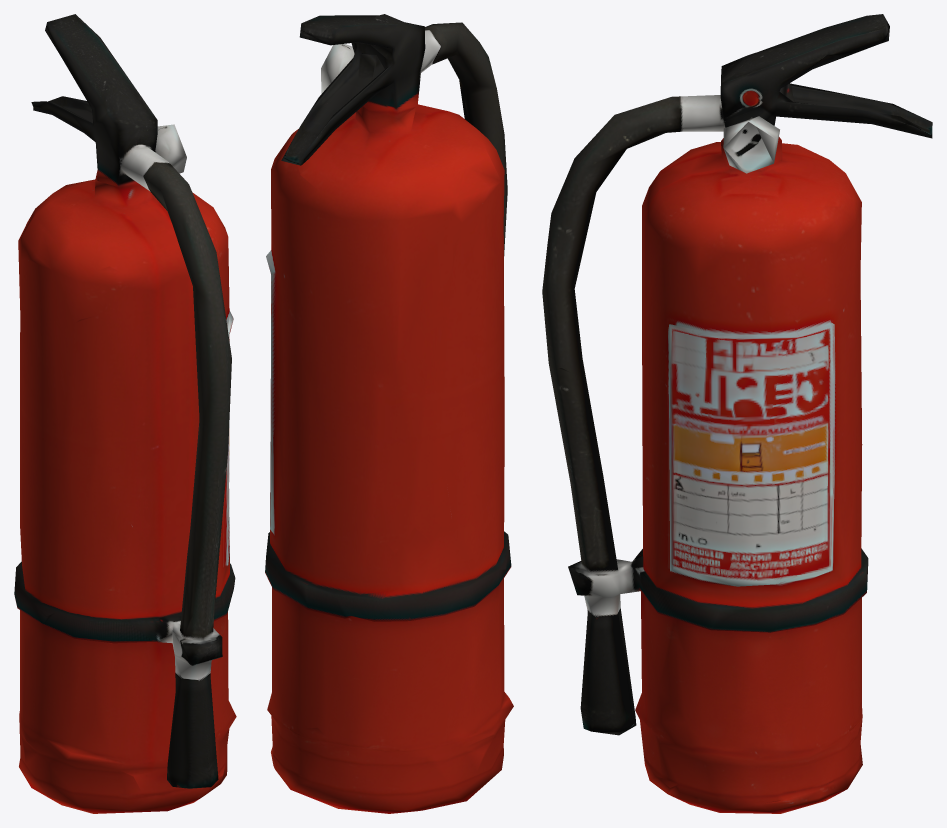
The model's file is extintor.glb.
3 views of the same model, side by side, from view 1: azimuth 30°, elevation 25°; view 2: azimuth 150°, elevation 25°; view 3: azimuth 270°, elevation 25° (orthographic). The views are drawn at different scales.
Visible parts, largest first — view 1: tripo_node_0edba3c1-ab55-4337-9d7a-b5ccd3be69a3; view 2: tripo_node_0edba3c1-ab55-4337-9d7a-b5ccd3be69a3; view 3: tripo_node_0edba3c1-ab55-4337-9d7a-b5ccd3be69a3.
Part boxes in pixels (box(x1,y1,x2,y2)): tripo_node_0edba3c1-ab55-4337-9d7a-b5ccd3be69a3: box(14, 14, 236, 813); tripo_node_0edba3c1-ab55-4337-9d7a-b5ccd3be69a3: box(265, 14, 513, 813); tripo_node_0edba3c1-ab55-4337-9d7a-b5ccd3be69a3: box(542, 14, 932, 813).
Bounding box in the file's own units: 0.2812 × 1 × 0.4707.
1 material, 1 textured.
